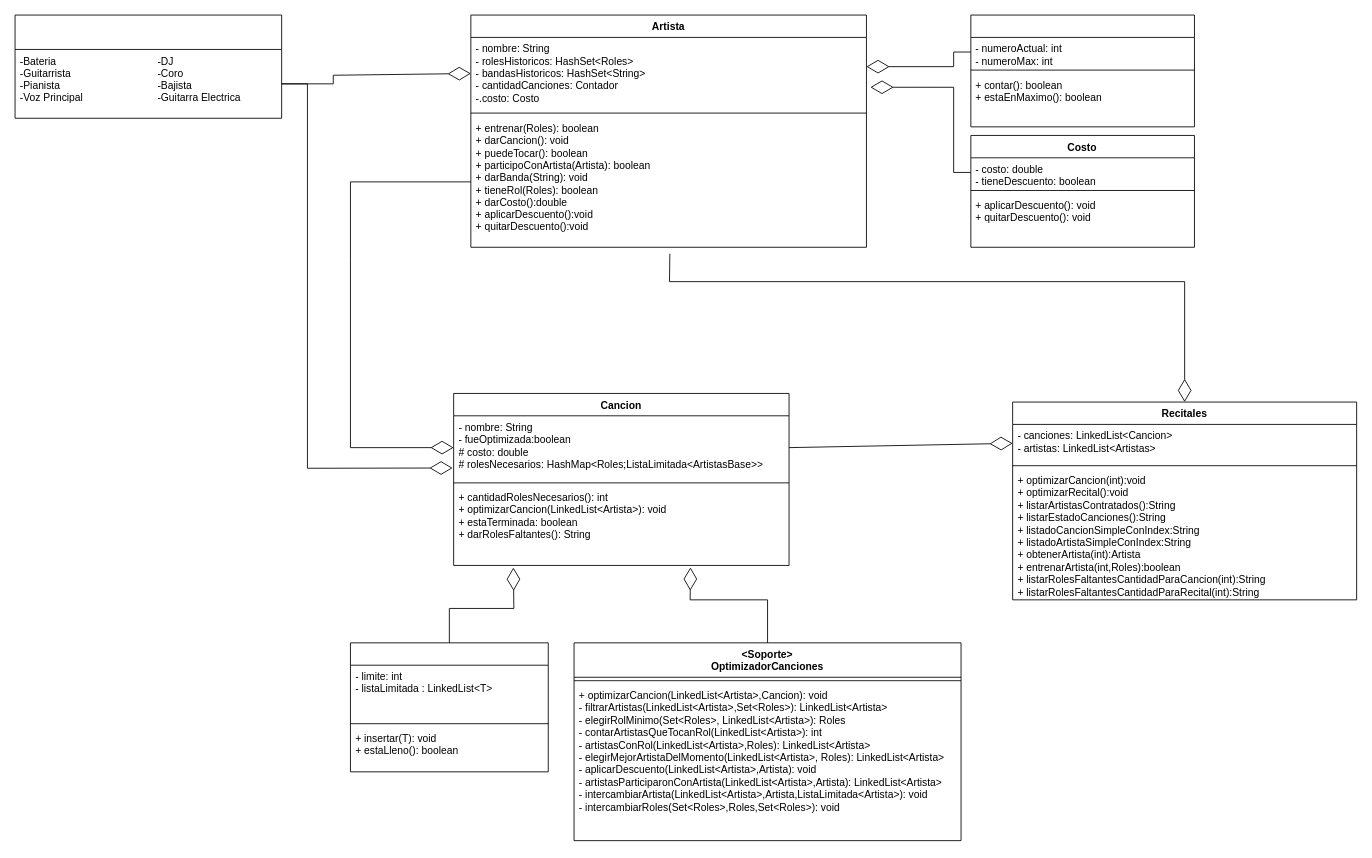
Image size: 1372x858. Some labels were removed from this diagram. Here are the shapes that lost their labels. From the top down, the box of each, then its label:
(14, 14, 282, 118): <enum> Roles
(970, 14, 1194, 127): Contador
(350, 642, 548, 772): ListaLimitada<T>
